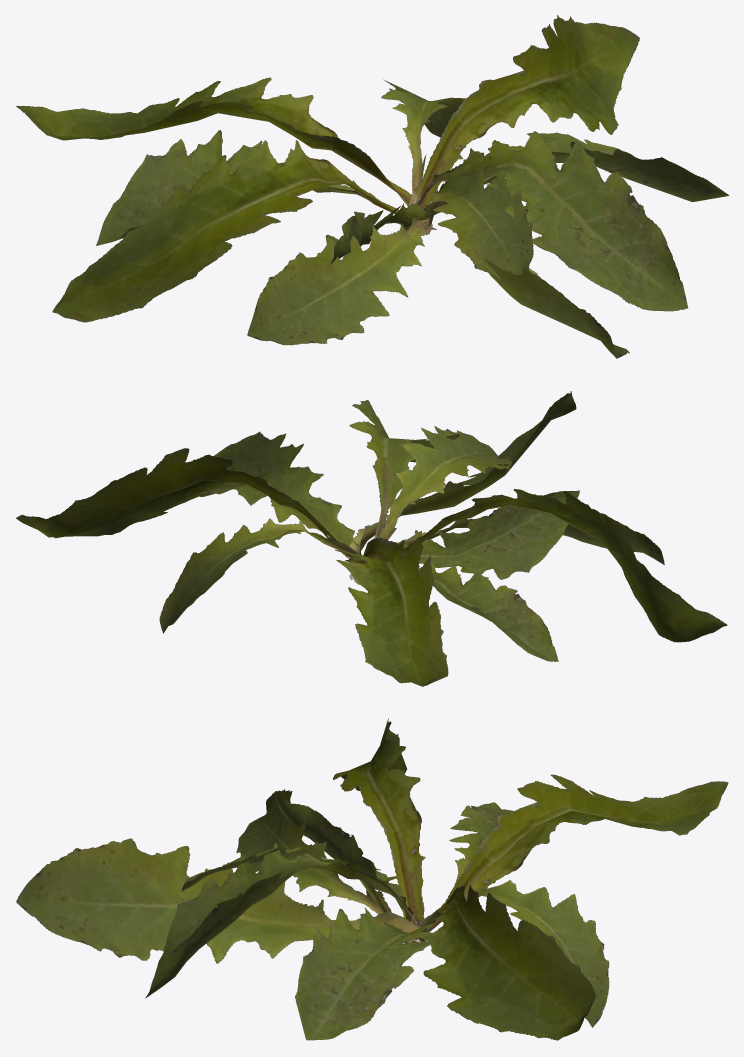
The picture shows the model from 3 angles, top to bottom: view 1: azimuth 30°, elevation 25°; view 2: azimuth 150°, elevation 25°; view 3: azimuth 270°, elevation 25°; orthographic projection. The views are drawn at different scales.
Parts seen in each view (by area): view 1: dandelion_01__e_lod0; view 2: dandelion_01__e_lod0; view 3: dandelion_01__e_lod0.
Boxes of the visible parts, x1=… form: dandelion_01__e_lod0: x1=16, y1=15, x2=729, y2=358; dandelion_01__e_lod0: x1=16, y1=391, x2=727, y2=686; dandelion_01__e_lod0: x1=16, y1=718, x2=728, y2=1040.
Size of the model in its own units: 0.2207 by 0.0503 by 0.2119.
Materials: 1 (1 with a texture image).
